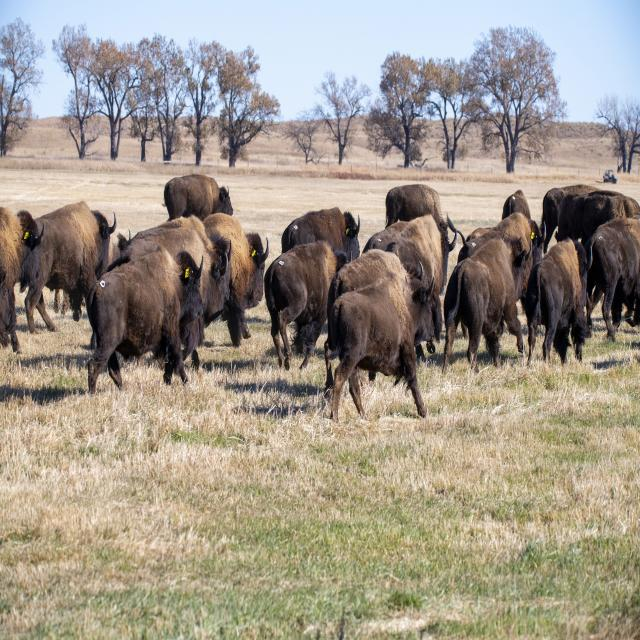Bison: (325, 220, 448, 422), (84, 241, 238, 401), (263, 200, 364, 377), (447, 208, 537, 372), (26, 198, 117, 328), (524, 232, 594, 376), (156, 165, 247, 232)
